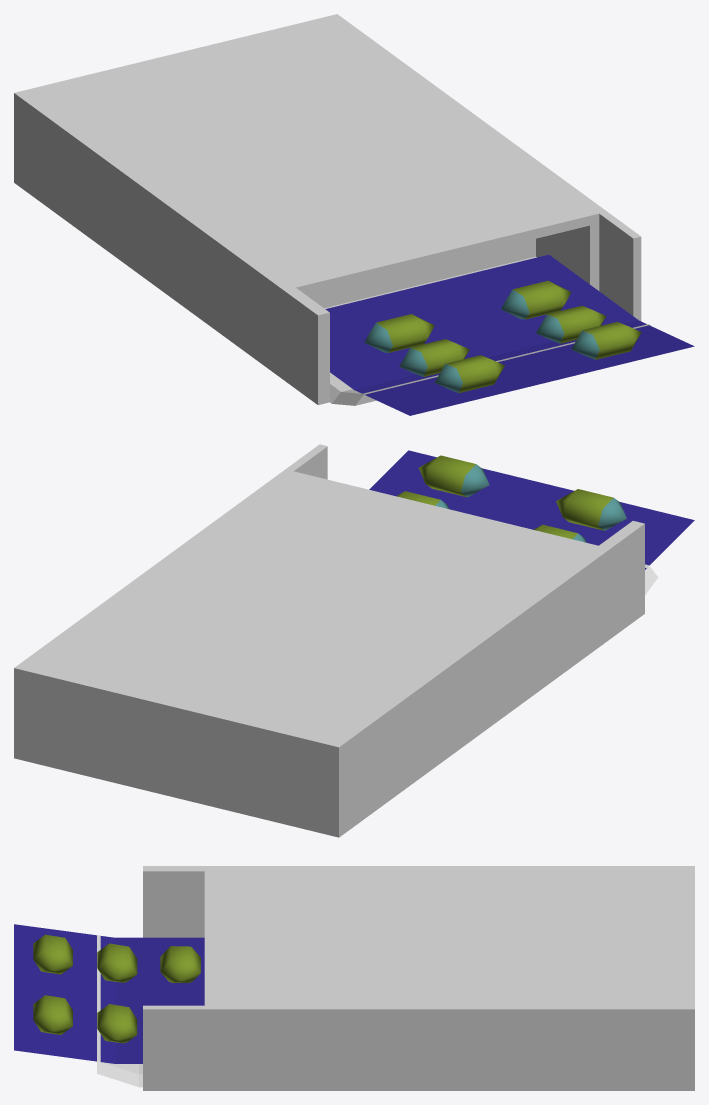
Rendered from Boite_Medicaments.FBX.
3 renders of one model, top to bottom at view 1: azimuth 30°, elevation 25°; view 2: azimuth 150°, elevation 25°; view 3: azimuth 270°, elevation 25°, orthographic. The views are drawn at different scales.
Parts seen in each view (by area): view 1: Box004, Object010; view 2: Box004, Object010; view 3: Box004, Object010.
Boxes of the visible parts, x1,y1,x2,y2 form: Box004: [14, 14, 650, 405]; Object010: [325, 254, 694, 415]; Box004: [14, 444, 658, 837]; Object010: [369, 450, 694, 569]; Box004: [97, 866, 694, 1090]; Object010: [14, 924, 204, 1063].
Bounding box in the file's own units: 11.42 × 3.03 × 22.94.
